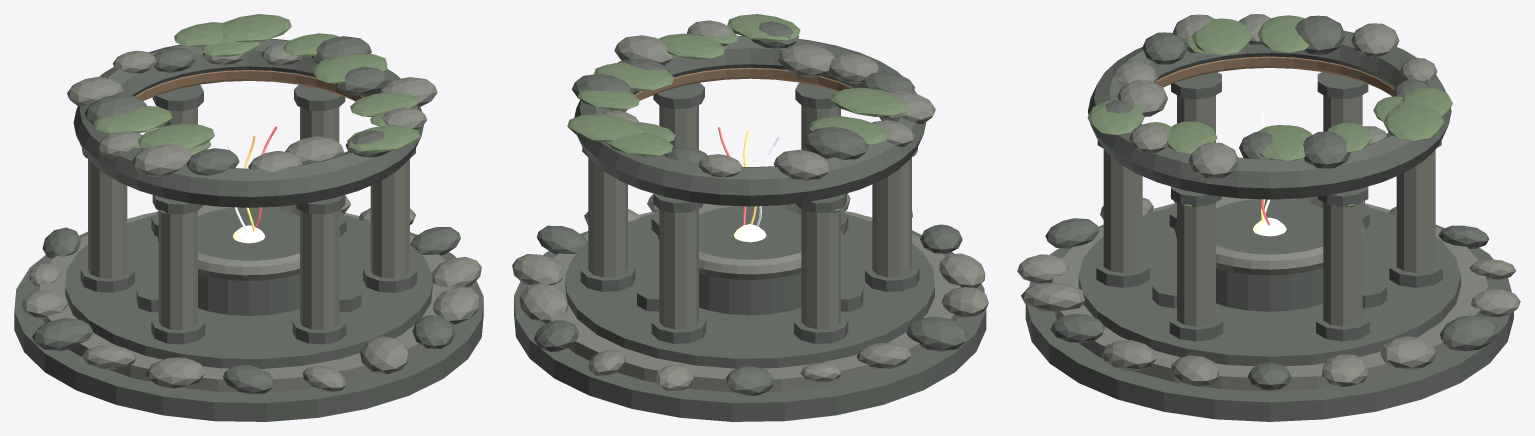
Rendered from Midgard_Well_Three_Norns_V1_YUP.glb.
The picture shows the model from 3 angles, left to right: view 1: azimuth 30°, elevation 25°; view 2: azimuth 150°, elevation 25°; view 3: azimuth 270°, elevation 25°; orthographic projection. The views are drawn at different scales.
Parts seen in each view (by area): view 1: Platform_2, Platform_0, Roof_Stone_Ring, Well_Outer, Platform_1, PillarShaft_1, PillarShaft_2, PillarShaft_0, PillarShaft_3, Well_Rim, Roof_Wood_Underside, RoofMoss_8 (+47 smaller); view 2: Platform_2, Platform_0, Roof_Stone_Ring, Well_Outer, Platform_1, PillarShaft_4, PillarShaft_3, PillarShaft_5, PillarShaft_2, Well_Rim, Roof_Wood_Underside, RoofMoss_11 (+46 smaller); view 3: Platform_2, Platform_0, Roof_Stone_Ring, Well_Outer, Platform_1, PillarShaft_5, PillarShaft_0, PillarShaft_1, PillarShaft_4, Well_Rim, Roof_Wood_Underside, RoofMoss_8 (+45 smaller).
Part boxes in pixels (x1,y1,x2,y2): Platform_2: (65, 215, 432, 368); Platform_0: (14, 217, 483, 421); Roof_Stone_Ring: (73, 39, 423, 207); Well_Outer: (198, 207, 299, 315); Platform_1: (39, 212, 455, 392); PillarShaft_1: (300, 210, 339, 329); PillarShaft_2: (158, 210, 197, 329); PillarShaft_0: (370, 159, 409, 278); PillarShaft_3: (88, 158, 127, 278); Well_Rim: (157, 205, 340, 280); Roof_Wood_Underside: (135, 70, 363, 101); RoofMoss_8: (220, 14, 291, 42); Platform_2: (565, 214, 934, 368); Platform_0: (514, 216, 986, 421); Roof_Stone_Ring: (574, 36, 926, 206); Well_Outer: (699, 206, 801, 315); Platform_1: (545, 211, 960, 392); PillarShaft_4: (659, 209, 698, 329); PillarShaft_3: (801, 209, 840, 329); PillarShaft_5: (588, 157, 627, 277); PillarShaft_2: (872, 157, 911, 277); Well_Rim: (658, 203, 841, 279); Roof_Wood_Underside: (618, 67, 884, 120); RoofMoss_11: (831, 87, 907, 116); Platform_2: (1078, 208, 1460, 366); Platform_0: (1025, 224, 1513, 421); Roof_Stone_Ring: (1088, 31, 1451, 199); Well_Outer: (1216, 199, 1323, 311); Platform_1: (1052, 203, 1487, 391); PillarShaft_5: (1323, 202, 1362, 326); PillarShaft_0: (1177, 202, 1215, 326); PillarShaft_1: (1103, 149, 1142, 272); PillarShaft_4: (1396, 150, 1435, 272); Well_Rim: (1174, 196, 1364, 275); Roof_Wood_Underside: (1156, 56, 1394, 96); RoofMoss_8: (1383, 104, 1444, 140).
Size of the model in its own units: 9.9 by 5.2 by 9.8.
